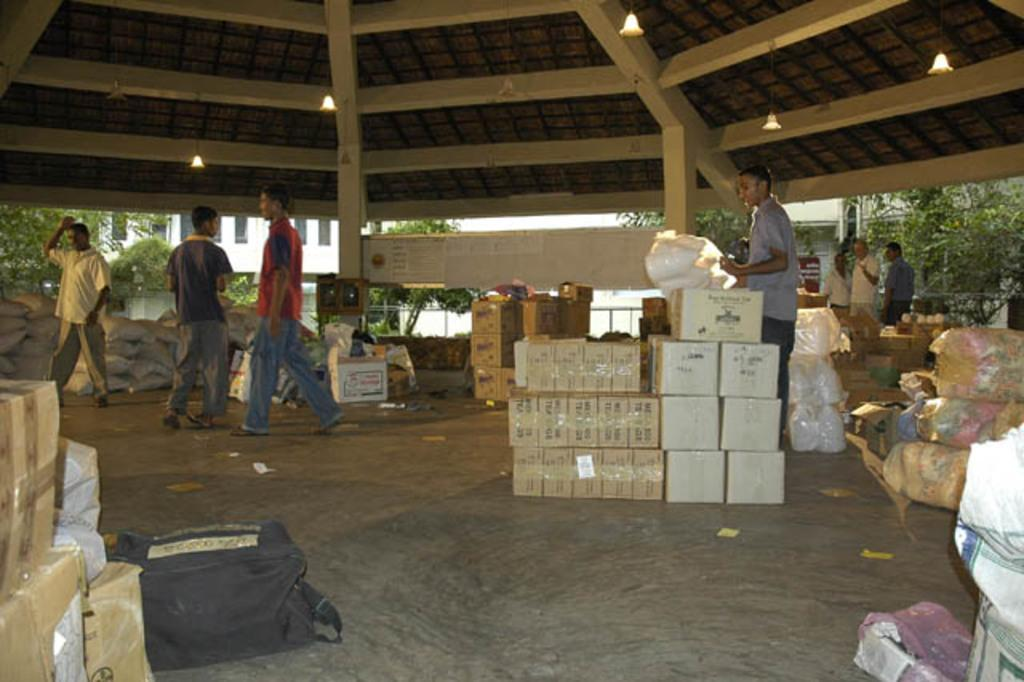Luggage-and-bags: (104, 527, 341, 661)
